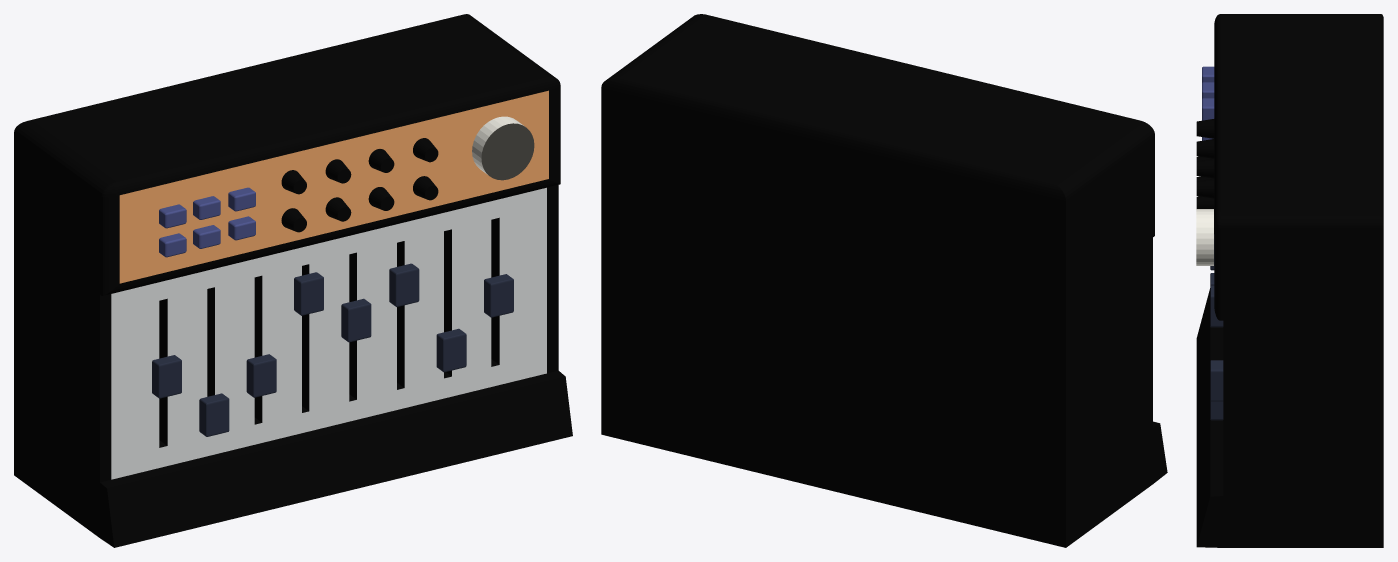
File: mixer8.fbx
3 renders of one model, left to right at view 1: azimuth 30°, elevation 25°; view 2: azimuth 150°, elevation 25°; view 3: azimuth 270°, elevation 25°, orthographic. The views are drawn at different scales.
Visible parts, largest first — view 1: Cube, Cube.003, Cylinder; view 2: Cube; view 3: Cube, Cube.003, Cylinder, Cylinder.002, Cylinder.001, Cylinder.006, Cylinder.005, Cube.005.
Boxes of the visible parts, x1,y1,x2,y2 form: Cube: (14,14,572,547); Cube.003: (152,263,513,436); Cylinder: (472,116,534,180); Cube: (601,14,1167,547); Cube: (1196,14,1383,547); Cube.003: (1210,234,1223,420); Cylinder: (1196,209,1214,265); Cylinder.002: (1196,158,1214,178); Cylinder.001: (1196,178,1214,198); Cylinder.006: (1196,119,1214,138); Cylinder.005: (1196,139,1214,158); Cube.005: (1202,98,1214,120).
Bounding box in the file's own units: 193 × 143 × 73.45.
